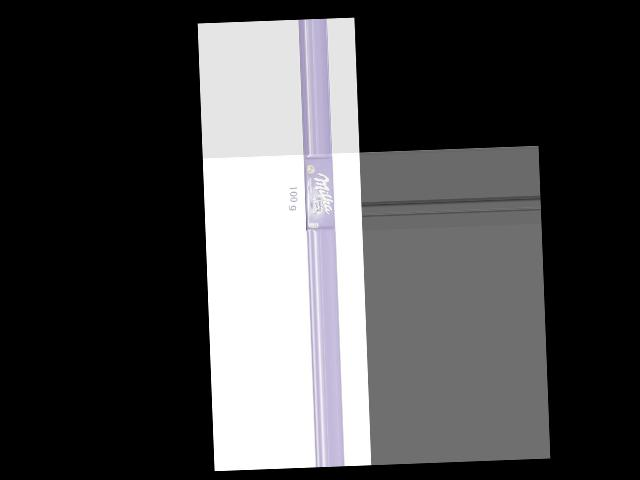chocolate: (298, 155, 335, 233)
